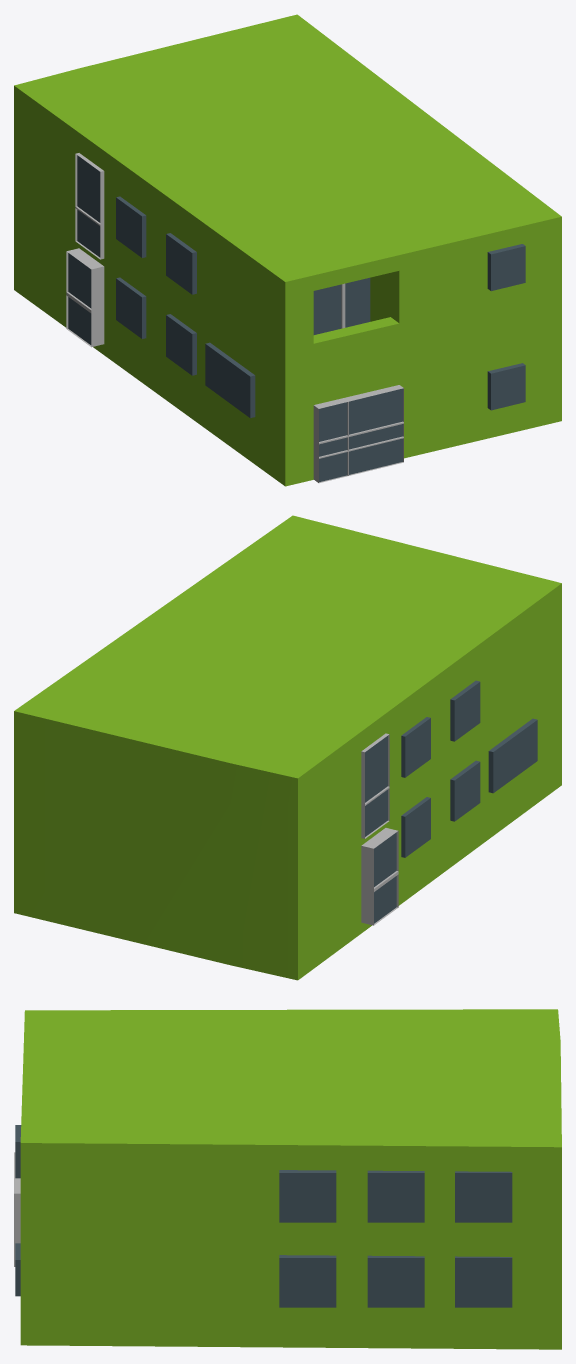
3 renders of one model, top to bottom at view 1: azimuth 30°, elevation 25°; view 2: azimuth 150°, elevation 25°; view 3: azimuth 270°, elevation 25°, orthographic.
Parts seen in each view (by area): view 1: A11, Entrance; view 2: A11; view 3: A11, Entrance.
Part boxes in pixels (x1,y1,x2,y2): A11: [14, 14, 561, 486]; Entrance: [313, 385, 403, 483]; A11: [14, 515, 561, 980]; A11: [15, 1009, 561, 1349]; Entrance: [14, 1152, 20, 1266].
Bounding box in the file's own units: 8.42 × 5.5 × 13.49.
